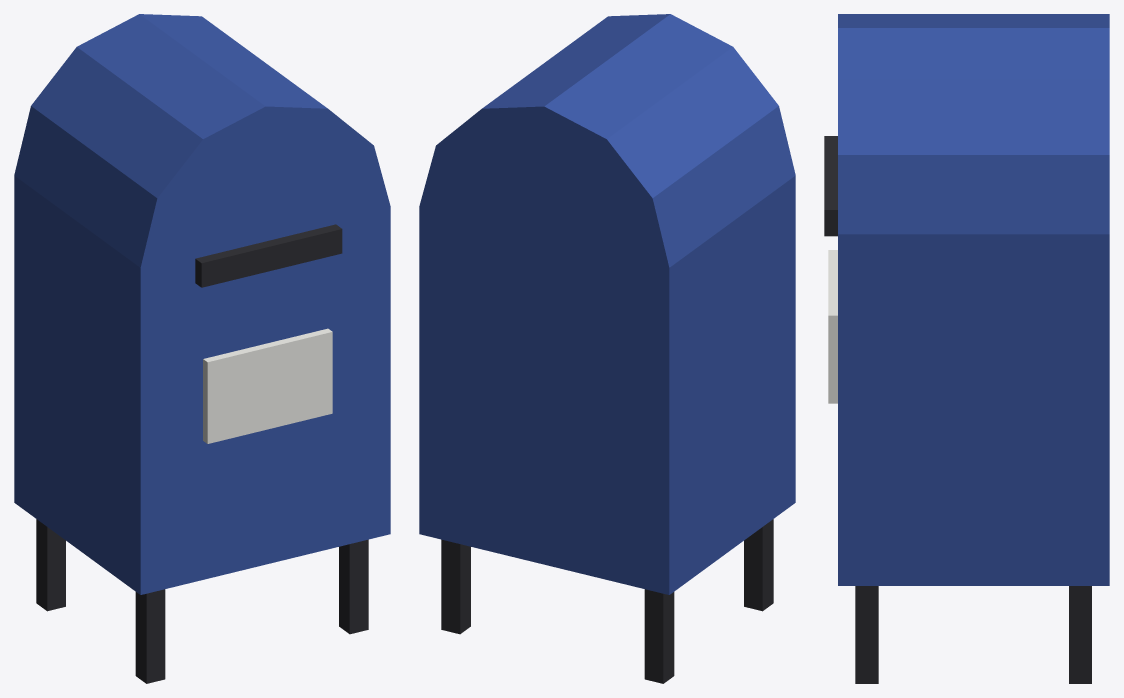
Rendered from Mailbox.fbx.
The picture shows the model from 3 angles, left to right: view 1: azimuth 30°, elevation 25°; view 2: azimuth 150°, elevation 25°; view 3: azimuth 270°, elevation 25°; orthographic projection. The views are drawn at different scales.
Parts seen in each view (by area): view 1: Body, Label, Legs, Slot; view 2: Body, Legs; view 3: Body, Legs, Label, Slot.
Boxes of the visible parts, x1=… form: Body: x1=14, y1=14, x2=390, y2=594; Label: x1=203, y1=328, x2=332, y2=443; Legs: x1=36, y1=519, x2=368, y2=683; Slot: x1=195, y1=224, x2=342, y2=287; Body: x1=419, y1=14, x2=795, y2=594; Legs: x1=441, y1=519, x2=773, y2=683; Body: x1=838, y1=14, x2=1109, y2=585; Legs: x1=855, y1=586, x2=1091, y2=683; Label: x1=828, y1=250, x2=837, y2=403; Slot: x1=824, y1=136, x2=837, y2=236.
Size of the model in its own units: 1.6 by 3.4 by 1.47.
